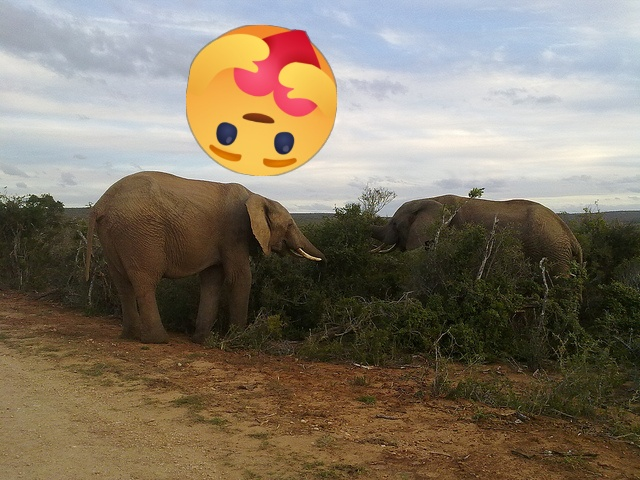care: (186, 25, 337, 176)
